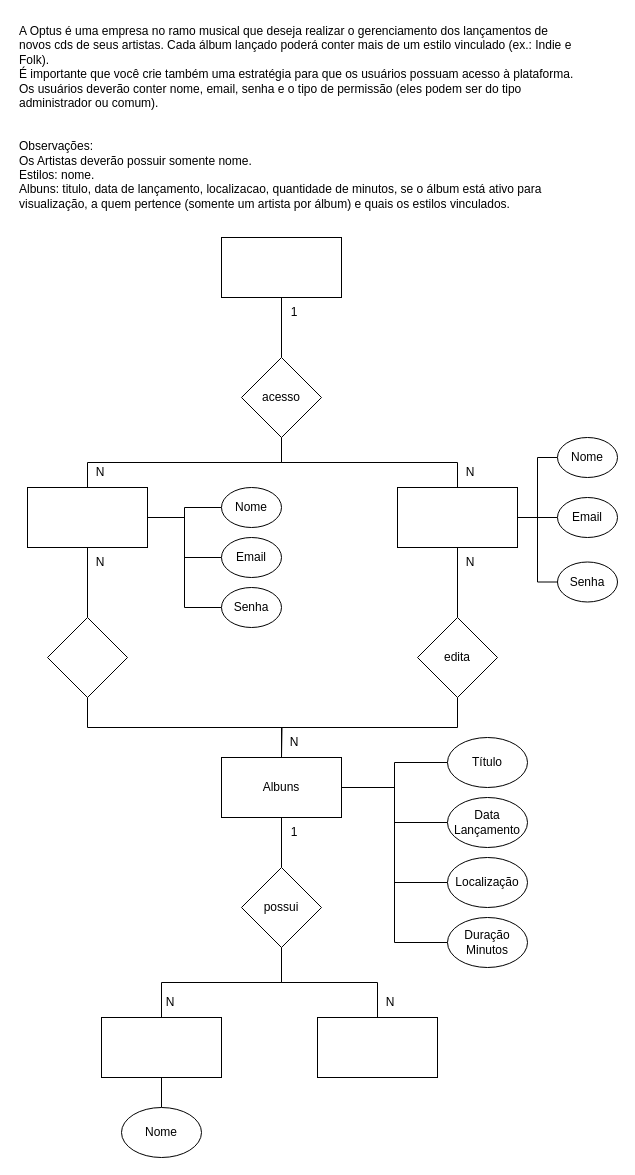
The diagram is 635 pixels wide and 1175 high, and some of its shapes have lost their labels. The shapes that lost their labels are listed below. From the top down, each one's box as (x1, y1, x2, y2) in pixels, then its label:
(220, 236, 342, 298): Empresa
(26, 486, 148, 548): Comum
(396, 486, 518, 548): Administrativo
(46, 616, 128, 698): visualiza
(100, 1016, 222, 1078): Artistas
(316, 1016, 438, 1078): Estilos
